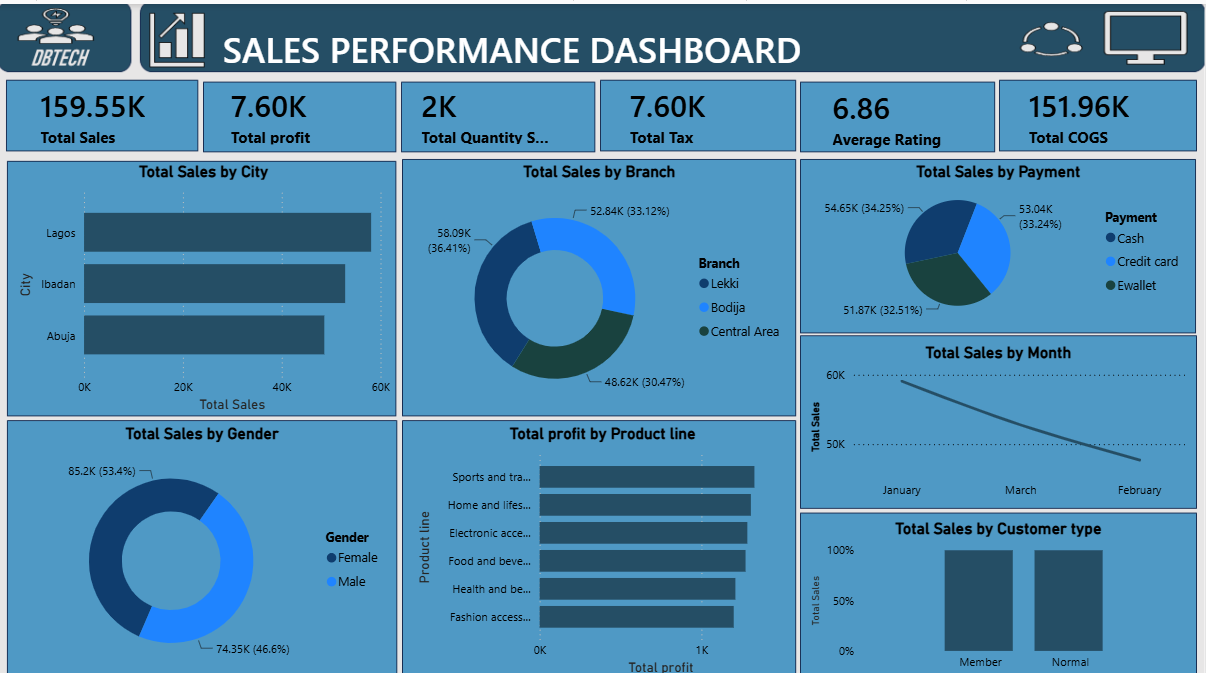

This screenshot's page, from the dashboard's own definition file:
{"tool":"powerbi","page":{"name":"Page 1","canvas":[1280,720],"ordinal":0},"visuals":[{"type":"cardVisual","fields":{"Data":["kingston Supermarket_Sales.Total Sales"]},"box":[15.1,69.9,202.2,96.4],"z":0},{"type":"cardVisual","fields":{"Data":["kingston Supermarket_Sales.Total profit"]},"box":[217.3,69.9,202.2,96.4],"z":1000},{"type":"cardVisual","fields":{"Data":["kingston Supermarket_Sales.Total Quantity Sold"]},"box":[419.9,71.6,202,95.4],"z":2000},{"type":"cardVisual","fields":{"Data":["kingston Supermarket_Sales.Total Tax"]},"box":[640.6,69.9,202.2,96.4],"z":3000},{"type":"cardVisual","fields":{"Data":["kingston Supermarket_Sales.Total COGS"]},"box":[1063.9,69.9,215.4,96.4],"z":4000},{"type":"cardVisual","fields":{"Data":["kingston Supermarket_Sales.Average Rating"]},"box":[856.1,62.4,207.9,117.2],"z":5000},{"type":"clusteredBarChart","fields":{"Category":["kingston Supermarket_Sales.City"],"Y":["kingston Supermarket_Sales.Total Sales"]},"box":[15.1,166.3,404.4,270.2],"z":6000},{"type":"donutChart","fields":{"Category":["kingston Supermarket_Sales.Branch"],"Y":["kingston Supermarket_Sales.Total Sales"]},"box":[432.8,166.3,410.1,270.2],"z":7000},{"type":"barChart","title":"Gross Income by Product line","fields":{"Category":["kingston Supermarket_Sales.Product line"],"Y":["kingston Supermarket_Sales.Total profit"]},"box":[438.4,446,404.4,270.2],"z":8000},{"type":"lineChart","fields":{"Category":["kingston Supermarket_Sales.Month"],"Y":["kingston Supermarket_Sales.Total Sales"]},"box":[856.1,359.1,410.1,173.9],"z":9000},{"type":"donutChart","fields":{"Category":["kingston Supermarket_Sales.Gender"],"Y":["kingston Supermarket_Sales.Total Sales"]},"box":[15,446,404,270],"z":10000},{"type":"clusteredColumnChart","fields":{"Category":["kingston Supermarket_Sales.Customer type"],"Y":["kingston Supermarket_Sales.Total Sales"]},"box":[856.1,546.1,410.1,170.1],"z":11000},{"type":"pieChart","fields":{"Category":["kingston Supermarket_Sales.Payment"],"Y":["kingston Supermarket_Sales.Total Sales"]},"box":[856.1,166.3,410.1,173.9],"z":12000},{"type":"textbox","box":[41.6,17,1007.3,90.7],"z":13000}]}

Visuals, with their boxes in screenshot pixels (x1, y1, x2, y2), scaled from the page's 1280x720 canvas onto the 1206x673 screenshot:
cardVisual - kingston Supermarket_Sales.Total Sales: BBox(14, 65, 205, 155)
cardVisual - kingston Supermarket_Sales.Total profit: BBox(205, 65, 395, 155)
cardVisual - kingston Supermarket_Sales.Total Quantity Sold: BBox(396, 67, 586, 156)
cardVisual - kingston Supermarket_Sales.Total Tax: BBox(604, 65, 794, 155)
cardVisual - kingston Supermarket_Sales.Total COGS: BBox(1002, 65, 1205, 155)
cardVisual - kingston Supermarket_Sales.Average Rating: BBox(807, 58, 1002, 168)
clusteredBarChart - kingston Supermarket_Sales.City x kingston Supermarket_Sales.Total Sales: BBox(14, 155, 395, 408)
donutChart - kingston Supermarket_Sales.Branch x kingston Supermarket_Sales.Total Sales: BBox(408, 155, 794, 408)
"Gross Income by Product line" barChart: BBox(413, 417, 794, 669)
lineChart - kingston Supermarket_Sales.Month x kingston Supermarket_Sales.Total Sales: BBox(807, 336, 1193, 498)
donutChart - kingston Supermarket_Sales.Gender x kingston Supermarket_Sales.Total Sales: BBox(14, 417, 395, 669)
clusteredColumnChart - kingston Supermarket_Sales.Customer type x kingston Supermarket_Sales.Total Sales: BBox(807, 510, 1193, 669)
pieChart - kingston Supermarket_Sales.Payment x kingston Supermarket_Sales.Total Sales: BBox(807, 155, 1193, 318)
textbox: BBox(39, 16, 988, 101)
